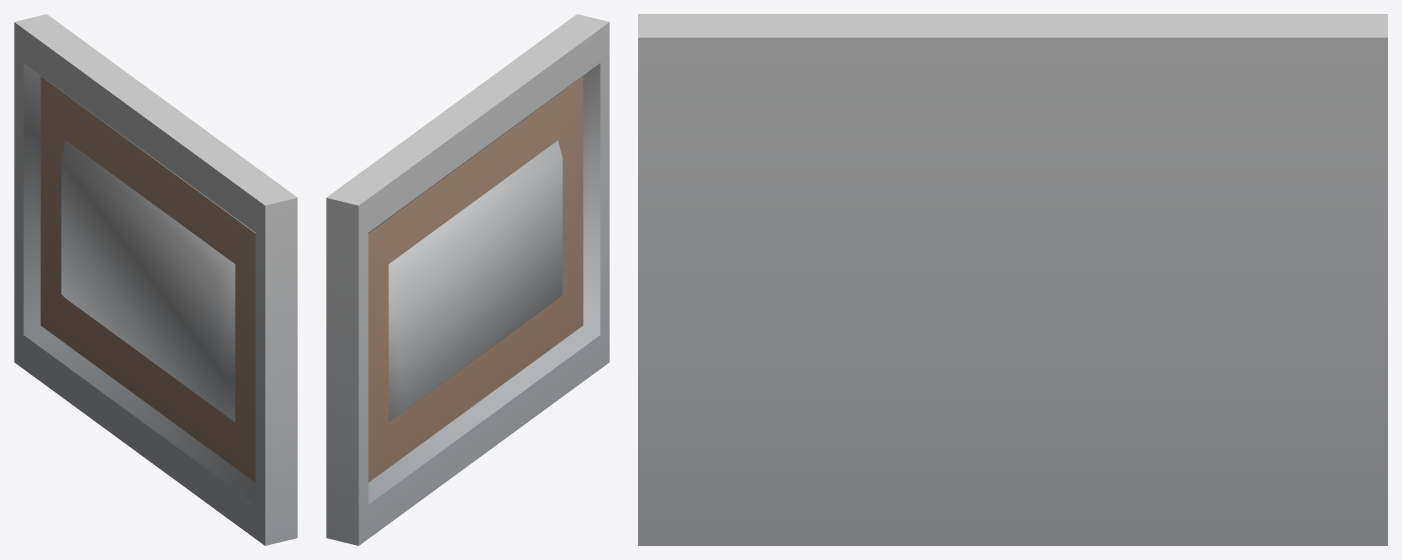
File: paneling-low-a (%wall).glb
3 views of the same model, side by side, from view 1: azimuth 30°, elevation 25°; view 2: azimuth 150°, elevation 25°; view 3: azimuth 270°, elevation 25° (orthographic). The views are drawn at different scales.
Parts seen in each view (by area): view 1: paneling-low-a (%wall); view 2: paneling-low-a (%wall); view 3: paneling-low-a (%wall).
Part boxes in pixels (x1,y1,x2,y2): paneling-low-a (%wall): [14, 14, 297, 545]; paneling-low-a (%wall): [326, 14, 609, 545]; paneling-low-a (%wall): [638, 14, 1387, 545].
Size of the model in its own units: 0.075 by 0.7479 by 1.
